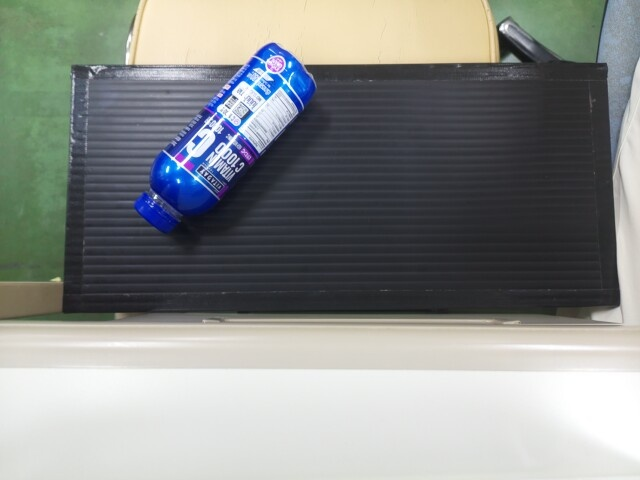plastic_bottle: (140, 39, 319, 228)
